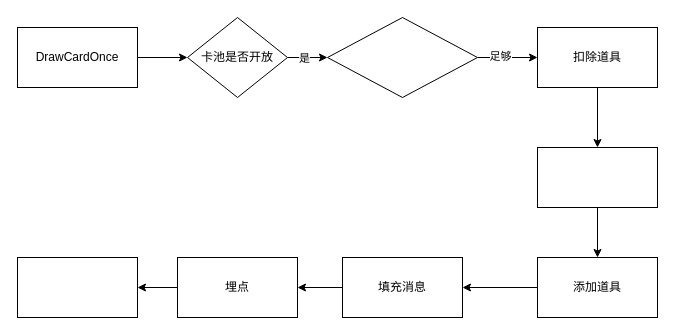
The diagram is 675 pixels wide and 335 high, and some of its shapes have lost their labels. Each missing label, with the centre of its shape:
Draw: (597,177)
当前帧存档: (77,287)
检查今日总抽卡次数: (402,57)
